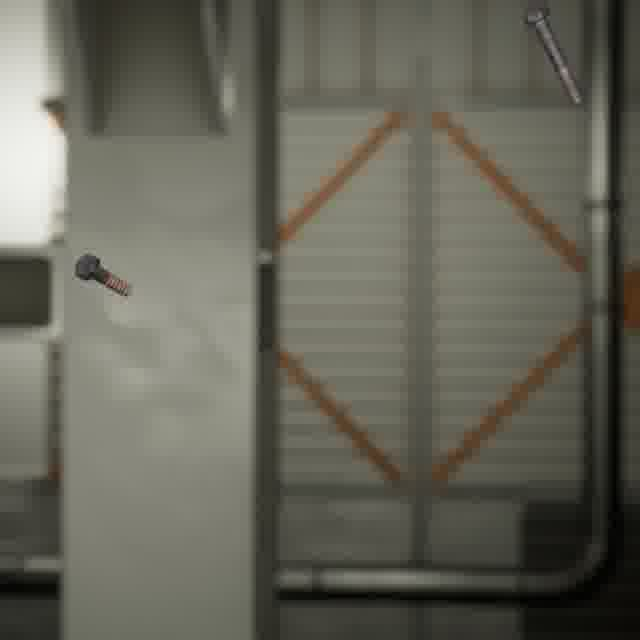bolt: (518, 1, 588, 109), (70, 249, 136, 301)
